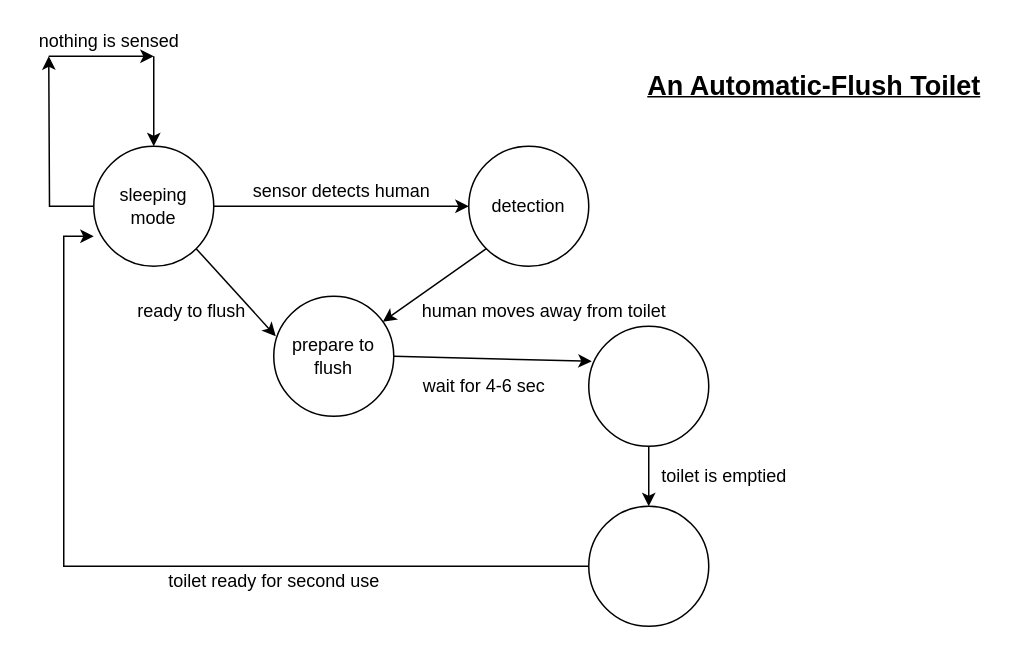
Some shapes in this 1019 by 653 pixel diagram are drawn without their labels. The shapes that lost their labels are listed below. From the top down, each one's centre as x and y in pixels, then its label:
At point (648, 385): "flushing".
At point (648, 565): "refilling".
